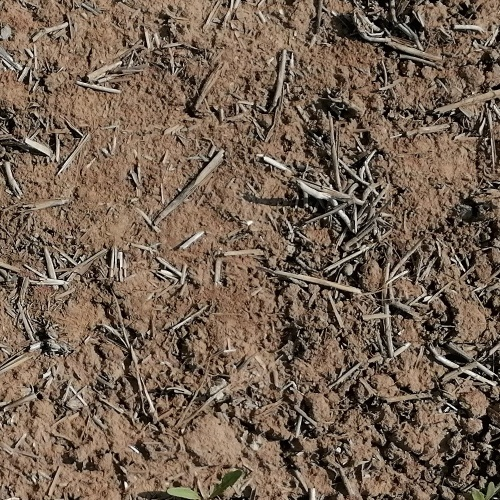beet: (169, 469, 245, 500), (470, 482, 500, 500)
